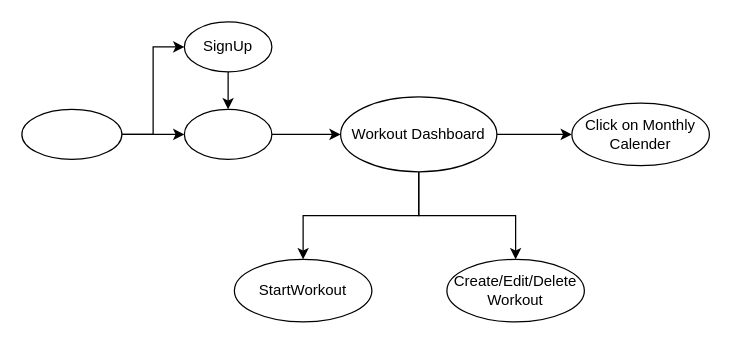
This 731x344 diagram has some shape labels left out. The centre of each missing label's shape, as x and y in pixels:
LandingPage: (x=71, y=133)
LoginPage: (x=227, y=133)
